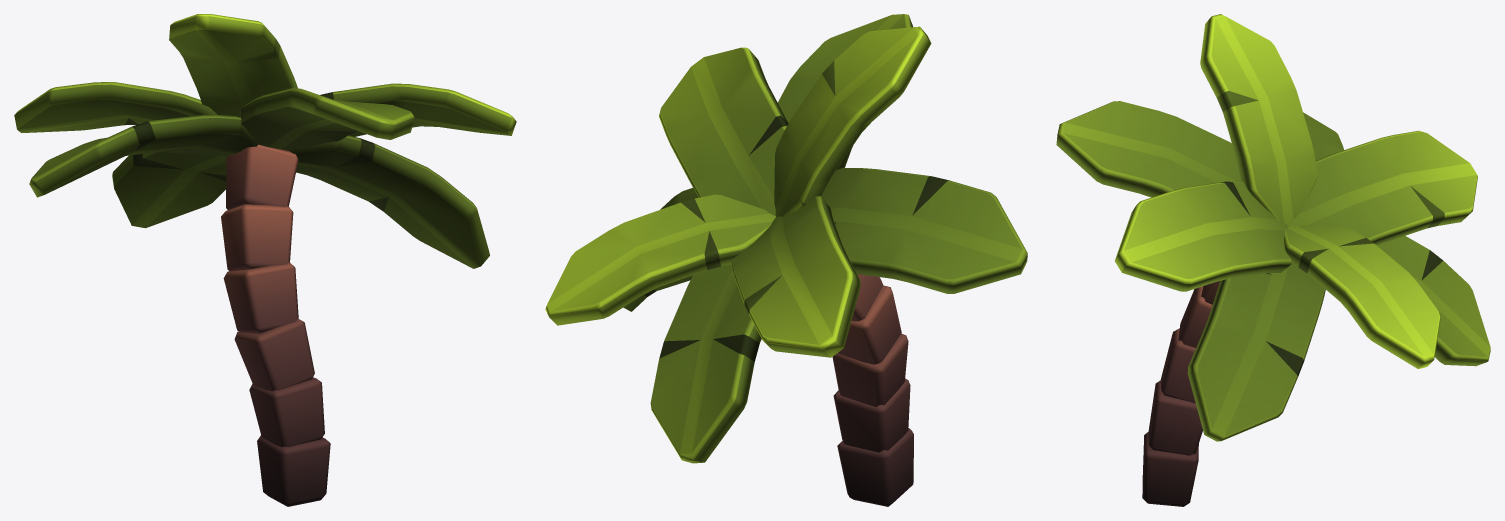
The model's file is palm_tree_4.fbx.
3 renders of one model, left to right at view 1: azimuth 30°, elevation 25°; view 2: azimuth 150°, elevation 25°; view 3: azimuth 270°, elevation 25°, orthographic. The views are drawn at different scales.
Parts seen in each view (by area): view 1: palm_tree_4; view 2: palm_tree_4; view 3: palm_tree_4.
Part boxes in pixels (x1=…): palm_tree_4: x1=14, y1=14, x2=516, y2=506; palm_tree_4: x1=545, y1=14, x2=1027, y2=506; palm_tree_4: x1=1056, y1=14, x2=1490, y2=506.
Bounding box in the file's own units: 507 × 559 × 483.
